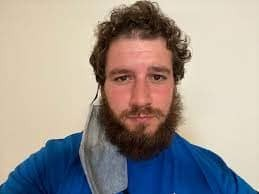without_mask: (102, 41, 175, 155)
